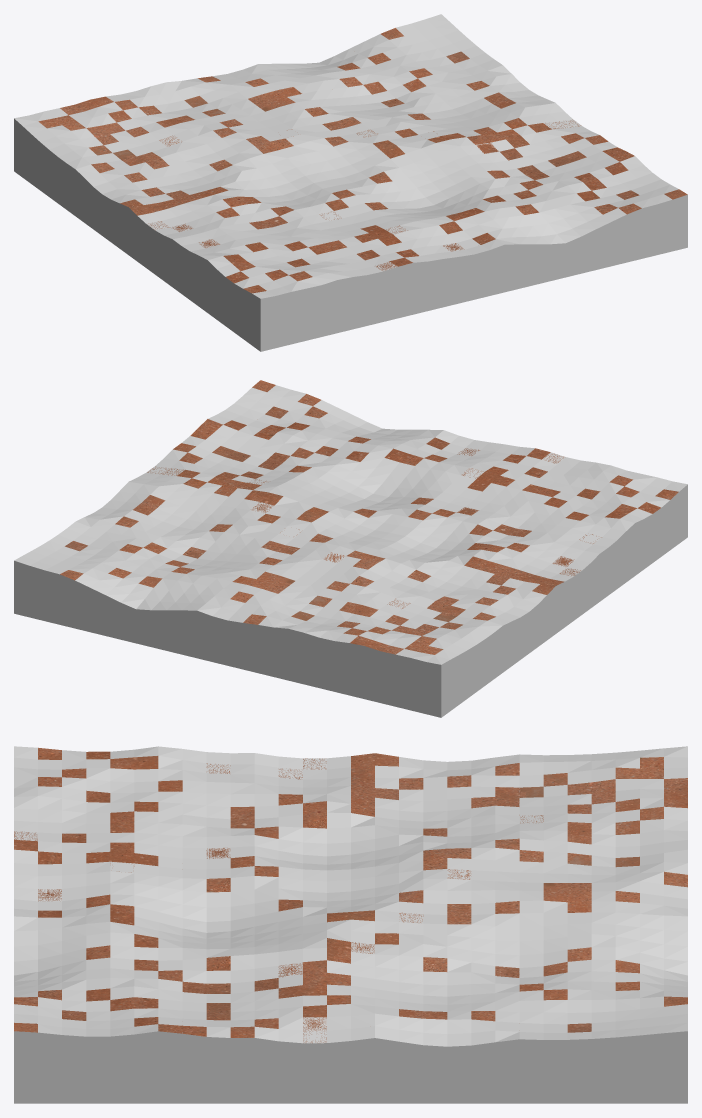
Rendered from Ground_flat_01_M01_LOD0.fbx.
The picture shows the model from 3 angles, top to bottom: view 1: azimuth 30°, elevation 25°; view 2: azimuth 150°, elevation 25°; view 3: azimuth 270°, elevation 25°; orthographic projection. The views are drawn at different scales.
Visible parts, largest first — view 1: Ground_flat_01_M01_Collidor, Ground_flat_01_M01_LOD0; view 2: Ground_flat_01_M01_Collidor, Ground_flat_01_M01_LOD0; view 3: Ground_flat_01_M01_Collidor, Ground_flat_01_M01_LOD0.
Part boxes in pixels (x1,y1,x2,y2): Ground_flat_01_M01_Collidor: (14, 14, 687, 351); Ground_flat_01_M01_LOD0: (38, 28, 687, 293); Ground_flat_01_M01_Collidor: (14, 385, 687, 717); Ground_flat_01_M01_LOD0: (60, 380, 678, 654); Ground_flat_01_M01_Collidor: (14, 746, 687, 1103); Ground_flat_01_M01_LOD0: (14, 747, 687, 1043).
Bounding box in the file's own units: 2000 × 243 × 2000.
